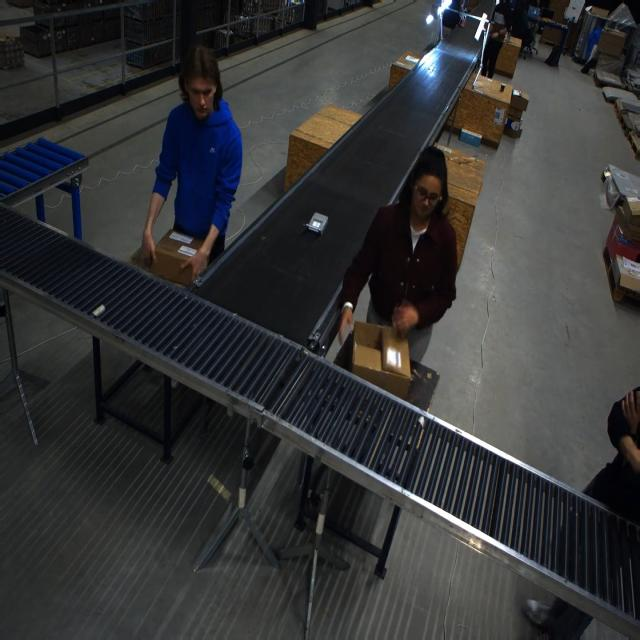box: (350, 321, 408, 399), (145, 228, 207, 285), (614, 201, 639, 245), (597, 28, 626, 56), (508, 85, 530, 117), (503, 117, 523, 139)
product: (304, 212, 328, 235)
